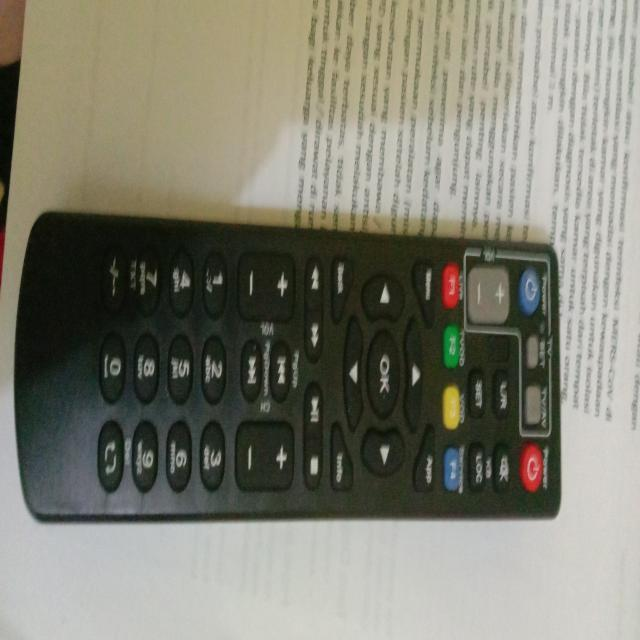remote: (14, 212, 569, 527)
